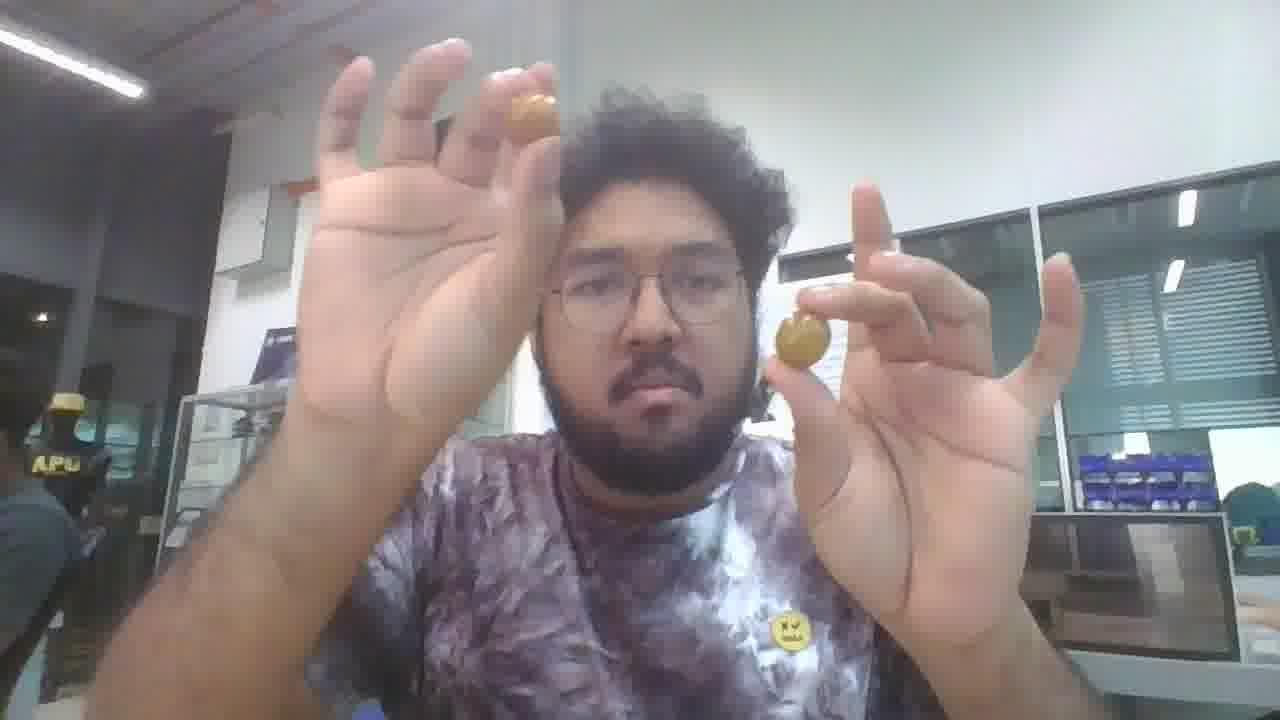yellow_cherry_tomato: (775, 308, 830, 369), (508, 93, 559, 144)
